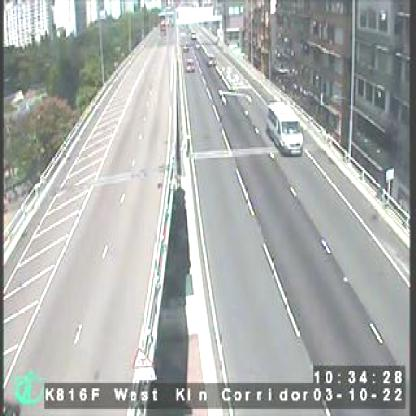Car: (265, 100, 302, 152), (205, 52, 217, 64), (183, 58, 194, 70)
